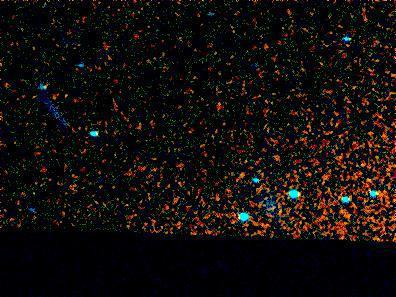star: (49, 77, 79, 107)
